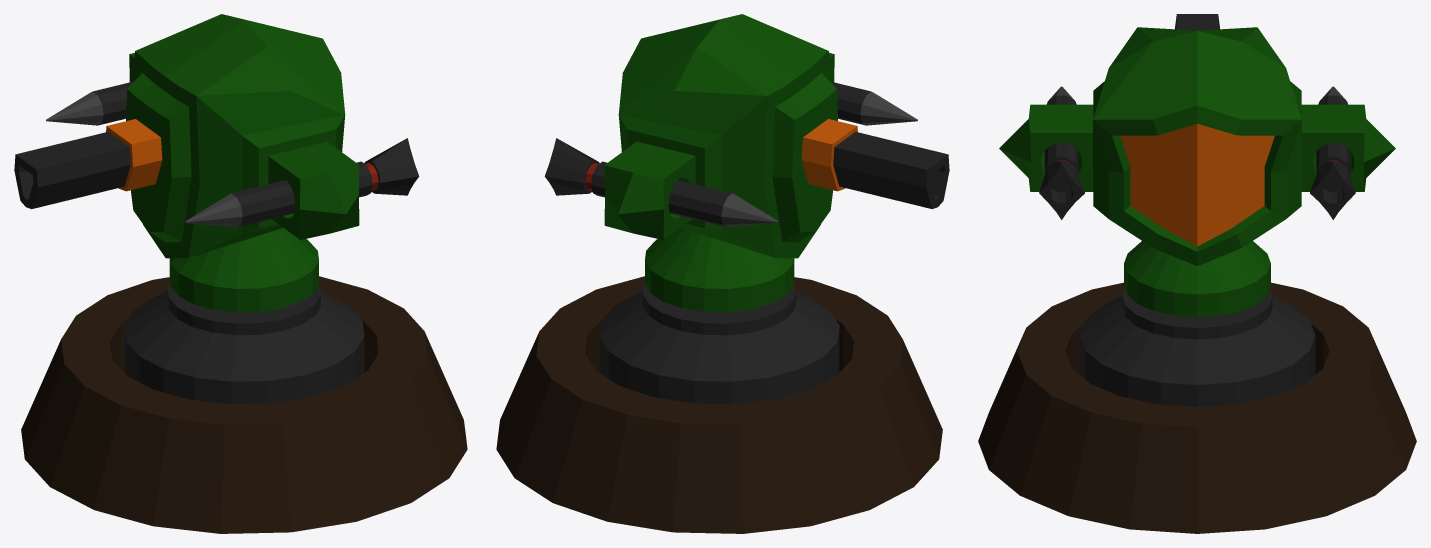
The model's file is turretLvl2.fbx.
The picture shows the model from 3 angles, left to right: view 1: azimuth 30°, elevation 25°; view 2: azimuth 150°, elevation 25°; view 3: azimuth 270°, elevation 25°; orthographic projection. The views are drawn at different scales.
Parts seen in each view (by area): view 1: TurretLvl2.001, BaseLvl2; view 2: TurretLvl2.001, BaseLvl2; view 3: TurretLvl2.001, BaseLvl2.
Boxes of the visible parts, x1,y1,x2,y2 form: TurretLvl2.001: [14, 14, 419, 404]; BaseLvl2: [21, 276, 467, 533]; TurretLvl2.001: [544, 14, 949, 404]; BaseLvl2: [496, 276, 942, 533]; TurretLvl2.001: [999, 14, 1395, 406]; BaseLvl2: [978, 282, 1416, 533].
Size of the model in its own units: 234 by 227 by 220.
